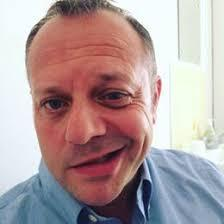strokeEyeMid: (30, 69, 143, 123)
strokeMouthSevere: (63, 143, 136, 181)
